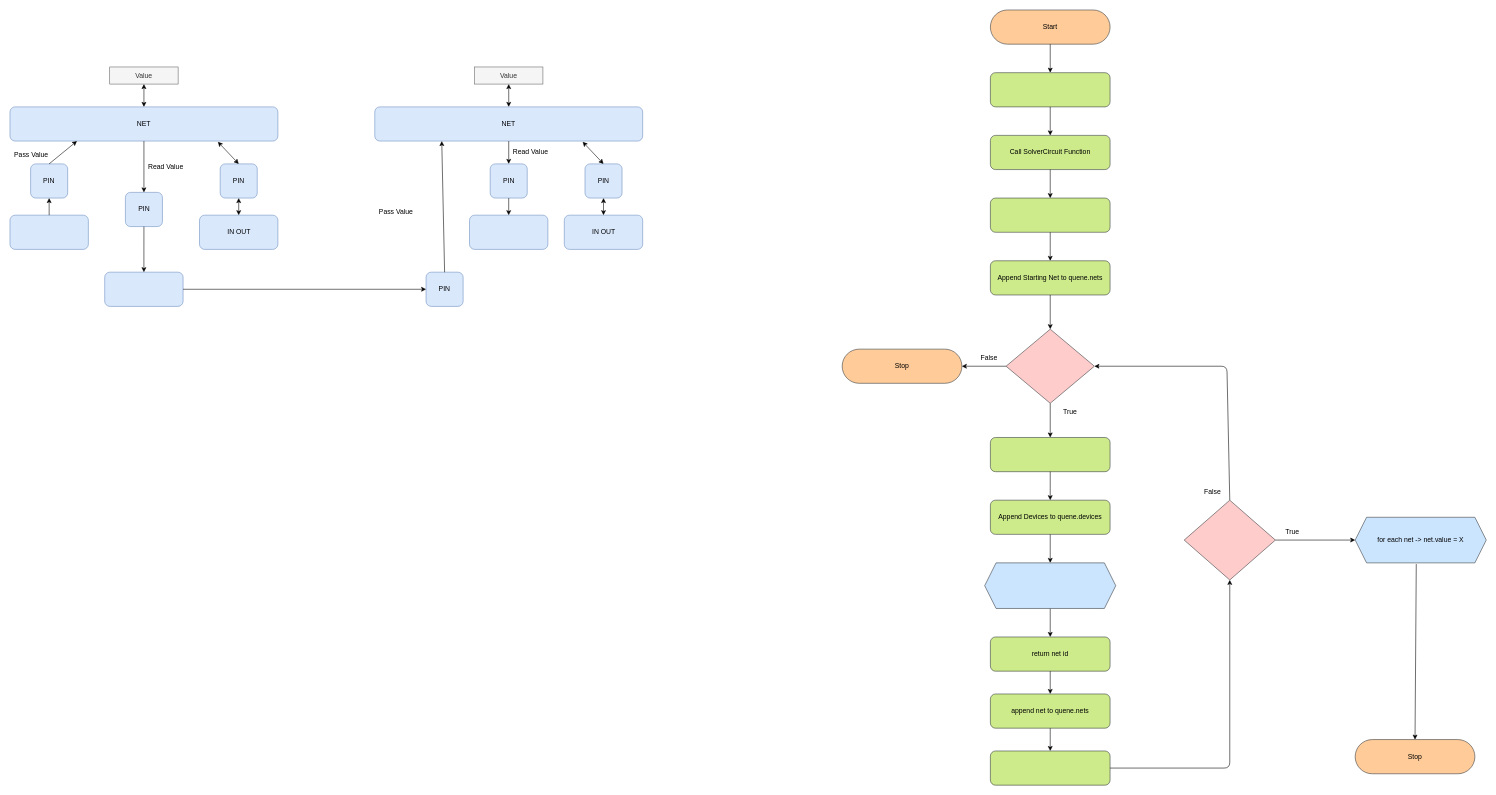
The diagram is 1496 pixels wide and 795 high, and some of its shapes have lost their labels. The shapes that lost their labels are listed below. From the top down, each one's box as (x1, y1, x2, y2) in pixels, then its label:
(990, 72, 1110, 107): Update Device
(9, 215, 88, 249): OUTPUT DEVICE
(469, 215, 548, 249): INPUT DEVICE
(990, 198, 1110, 232): Pass starting net
(104, 272, 183, 306): GATE
(1005, 329, 1094, 403): quene.nets.length > 0
(990, 437, 1110, 472): Solve net
(1184, 500, 1275, 580): delta >= maxDelta
(984, 562, 1116, 608): Update each device
(990, 750, 1110, 785): delta++
